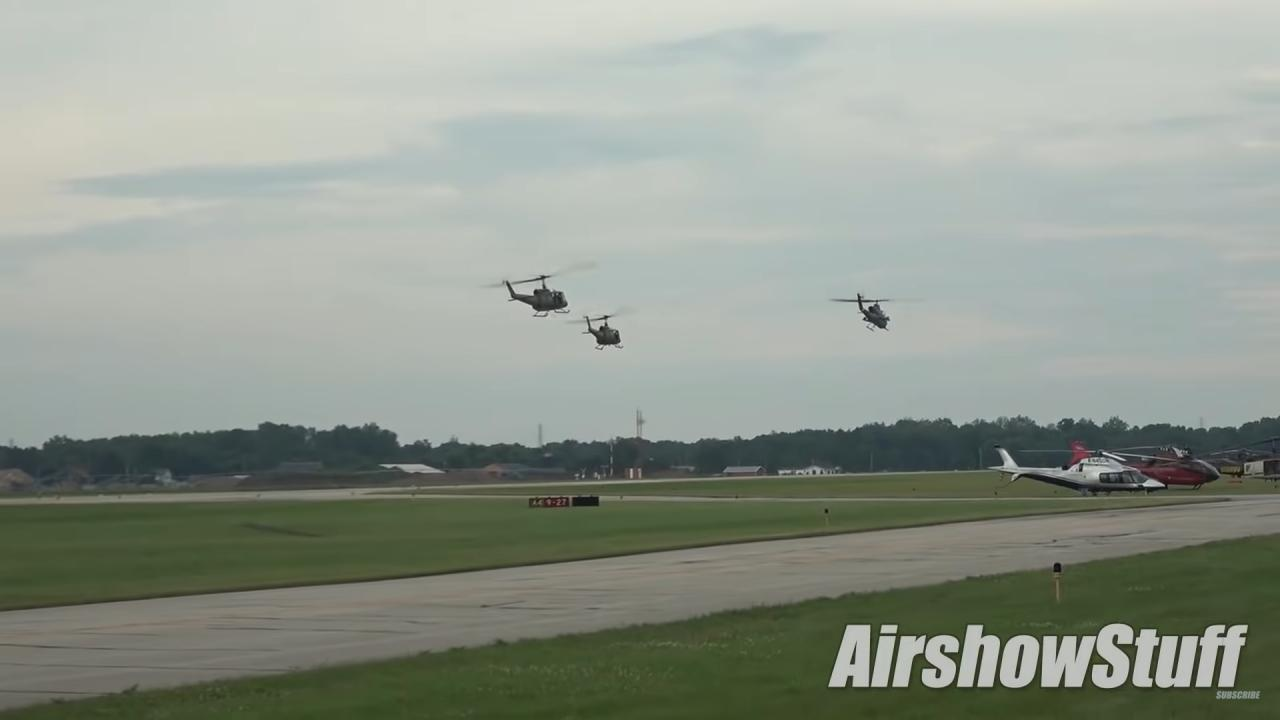Helicopter: (465, 250, 611, 320), (818, 285, 912, 346), (567, 303, 639, 356)
